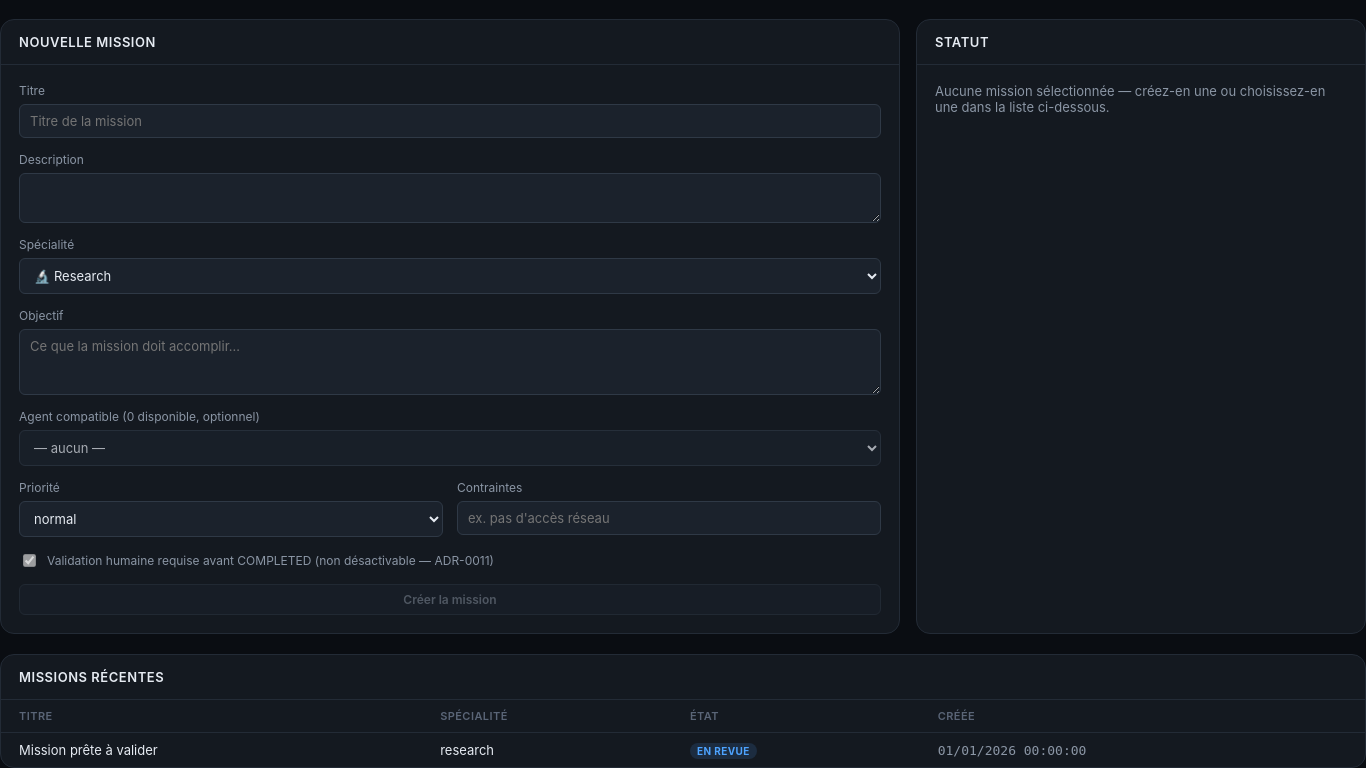
Test: MissionCenterPage › activates validate/reject once the selected mission is really REVIEW, from real API data
(page scrolled)
Click the text "Mission prête à valider". click: (88, 750)
box: [1, 732, 422, 767]
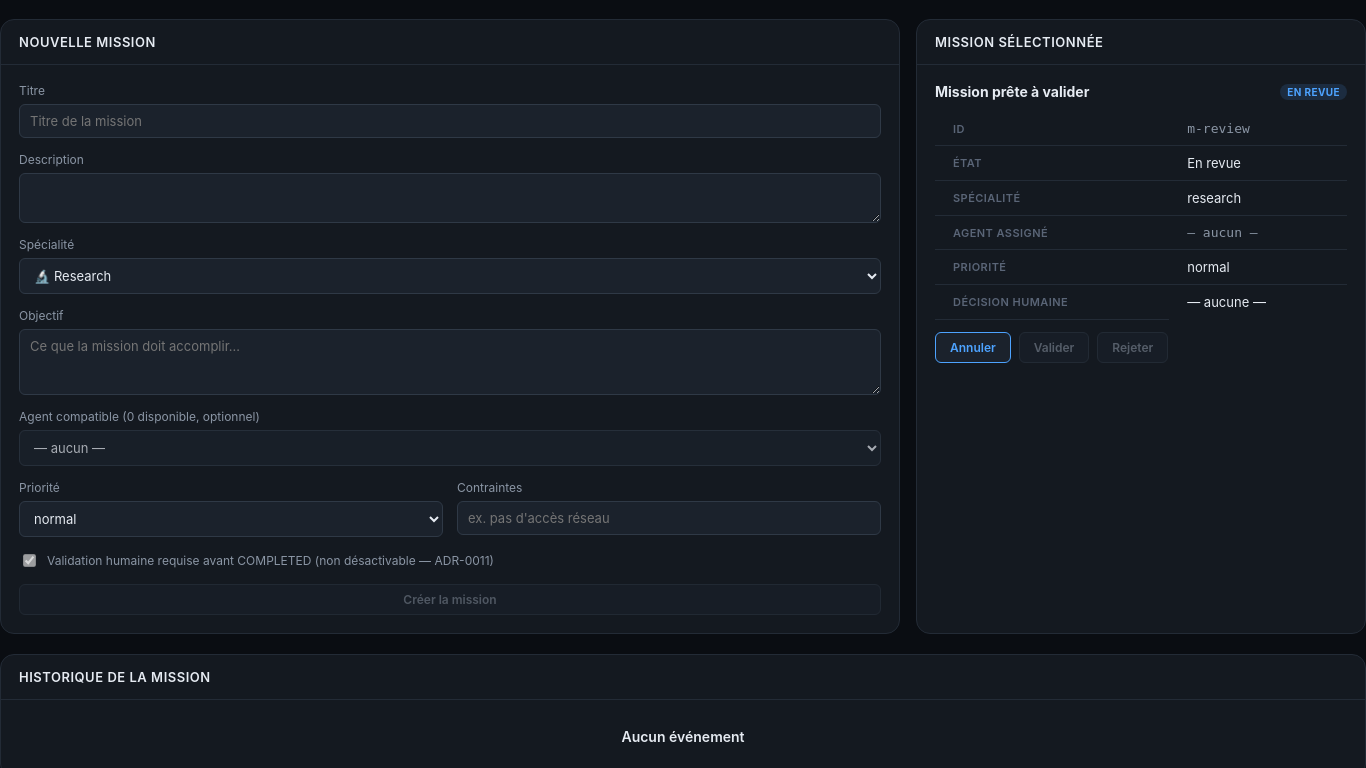
Result: the button "Valider" is enabled at [1019, 332, 1089, 362]
Result: the button "Rejeter" is enabled at [1097, 332, 1168, 362]
